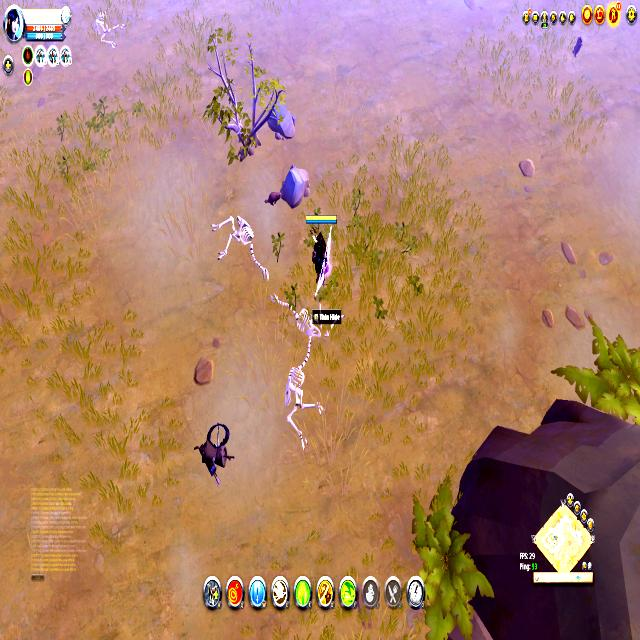red: (304, 208, 337, 287)
